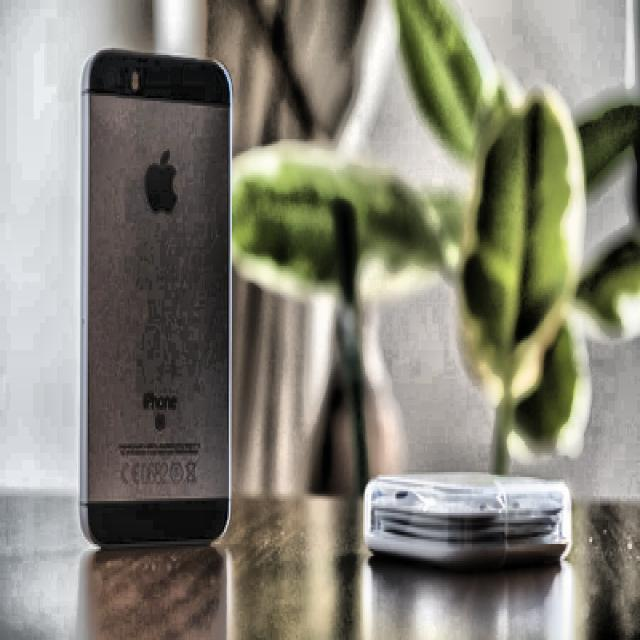Phone: (80, 46, 232, 551)
